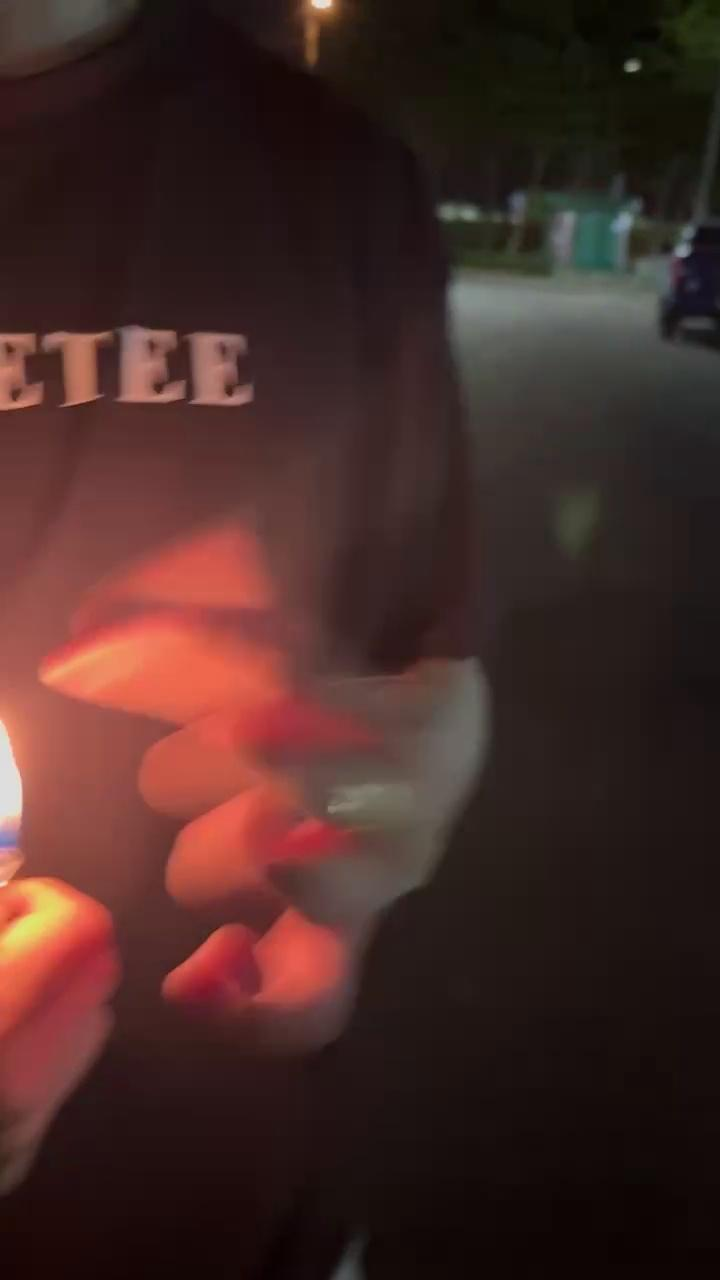Fire: (0, 732, 55, 875)
